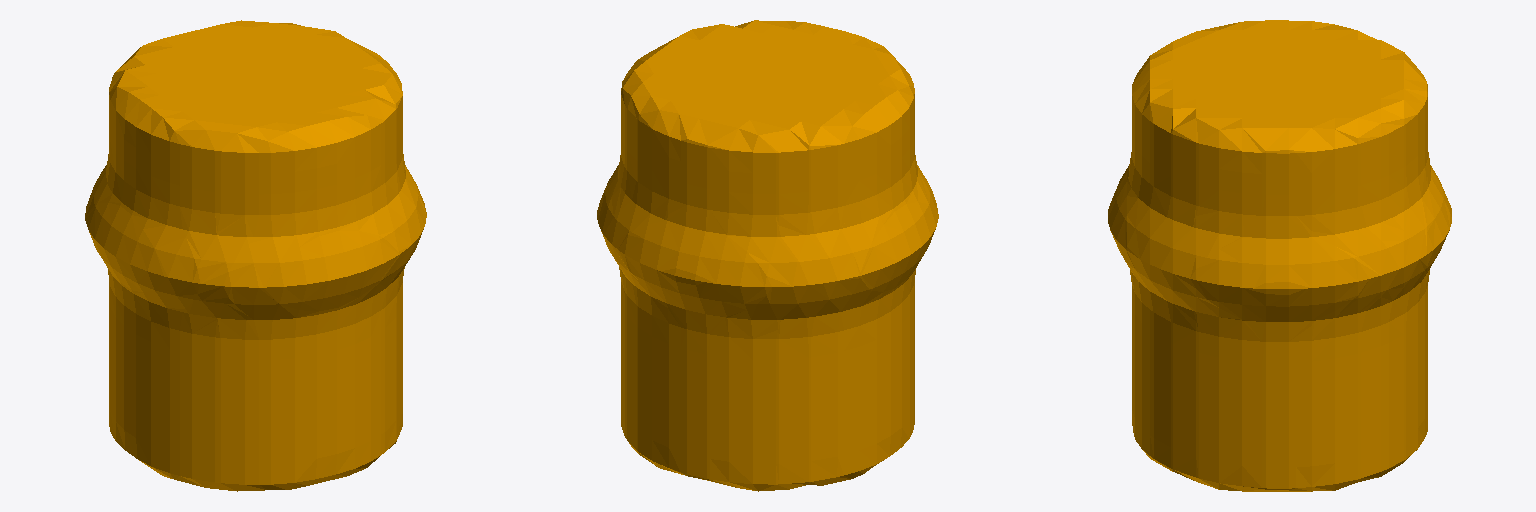
robot.urdf — cylinder_../../meshes/cylinders/cylinder_83.stl:
<?xml version="1.0" encoding="utf-8"?>  <robot name="cylinder_../../meshes/cylinders/cylinder_83.stl">   <link name="cylinder_../../meshes/cylinders/cylinder_83.stl">     <visual>       <geometry>         <mesh filename="../meshes/cylinders/cylinder_83.stl" scale="1 1 1"/>       </geometry>     </visual>     <collision>       <geometry>         <mesh filename="../meshes/cylinders/cylinder_83.stl" scale="1 1 1"/>       </geometry>     </collision>     <inertial>        <origin         xyz="0 0 0"         rpy="0 0 0" />       <mass value="0.2923158206792438"/>       <origin rpy="0 0 0" xyz="0 0 0"/>       <inertia ixx="0.00025263877464526863" ixy="-5.207773550175208e-08" ixz="-1.6563541422221748e-09" iyy="0.00025263898240690817" iyz="-7.848162363211839e-10" izz="0.0001583530485362326"/>     </inertial>   </link>  </robot>

--- What the picture shows (computed from the rendered views, not written in the file) ---
The picture shows the robot from 3 angles, left to right: view 1: azimuth 30°, elevation 25°; view 2: azimuth 150°, elevation 25°; view 3: azimuth 270°, elevation 25°; orthographic projection.
Model cylinder_../../meshes/cylinders/cylinder_83.stl with 1 links and 0 joints (none), rooted at cylinder_../../meshes/cylinders/cylinder_83.stl, posed every joint at zero.
Visible links, largest first — view 1: cylinder_../../meshes/cylinders/cylinder_83.stl; view 2: cylinder_../../meshes/cylinders/cylinder_83.stl; view 3: cylinder_../../meshes/cylinders/cylinder_83.stl.
Link boxes in pixels (box(x1,y1,x2,y2)): cylinder_../../meshes/cylinders/cylinder_83.stl: box(85, 20, 426, 491); cylinder_../../meshes/cylinders/cylinder_83.stl: box(597, 20, 938, 491); cylinder_../../meshes/cylinders/cylinder_83.stl: box(1108, 20, 1451, 491).
Bounding box of the posed robot: 0.0747 × 0.0747 × 0.0868 m (x, y, z).
1 mesh visuals loaded from 1 distinct referenced files (1 binary STL).